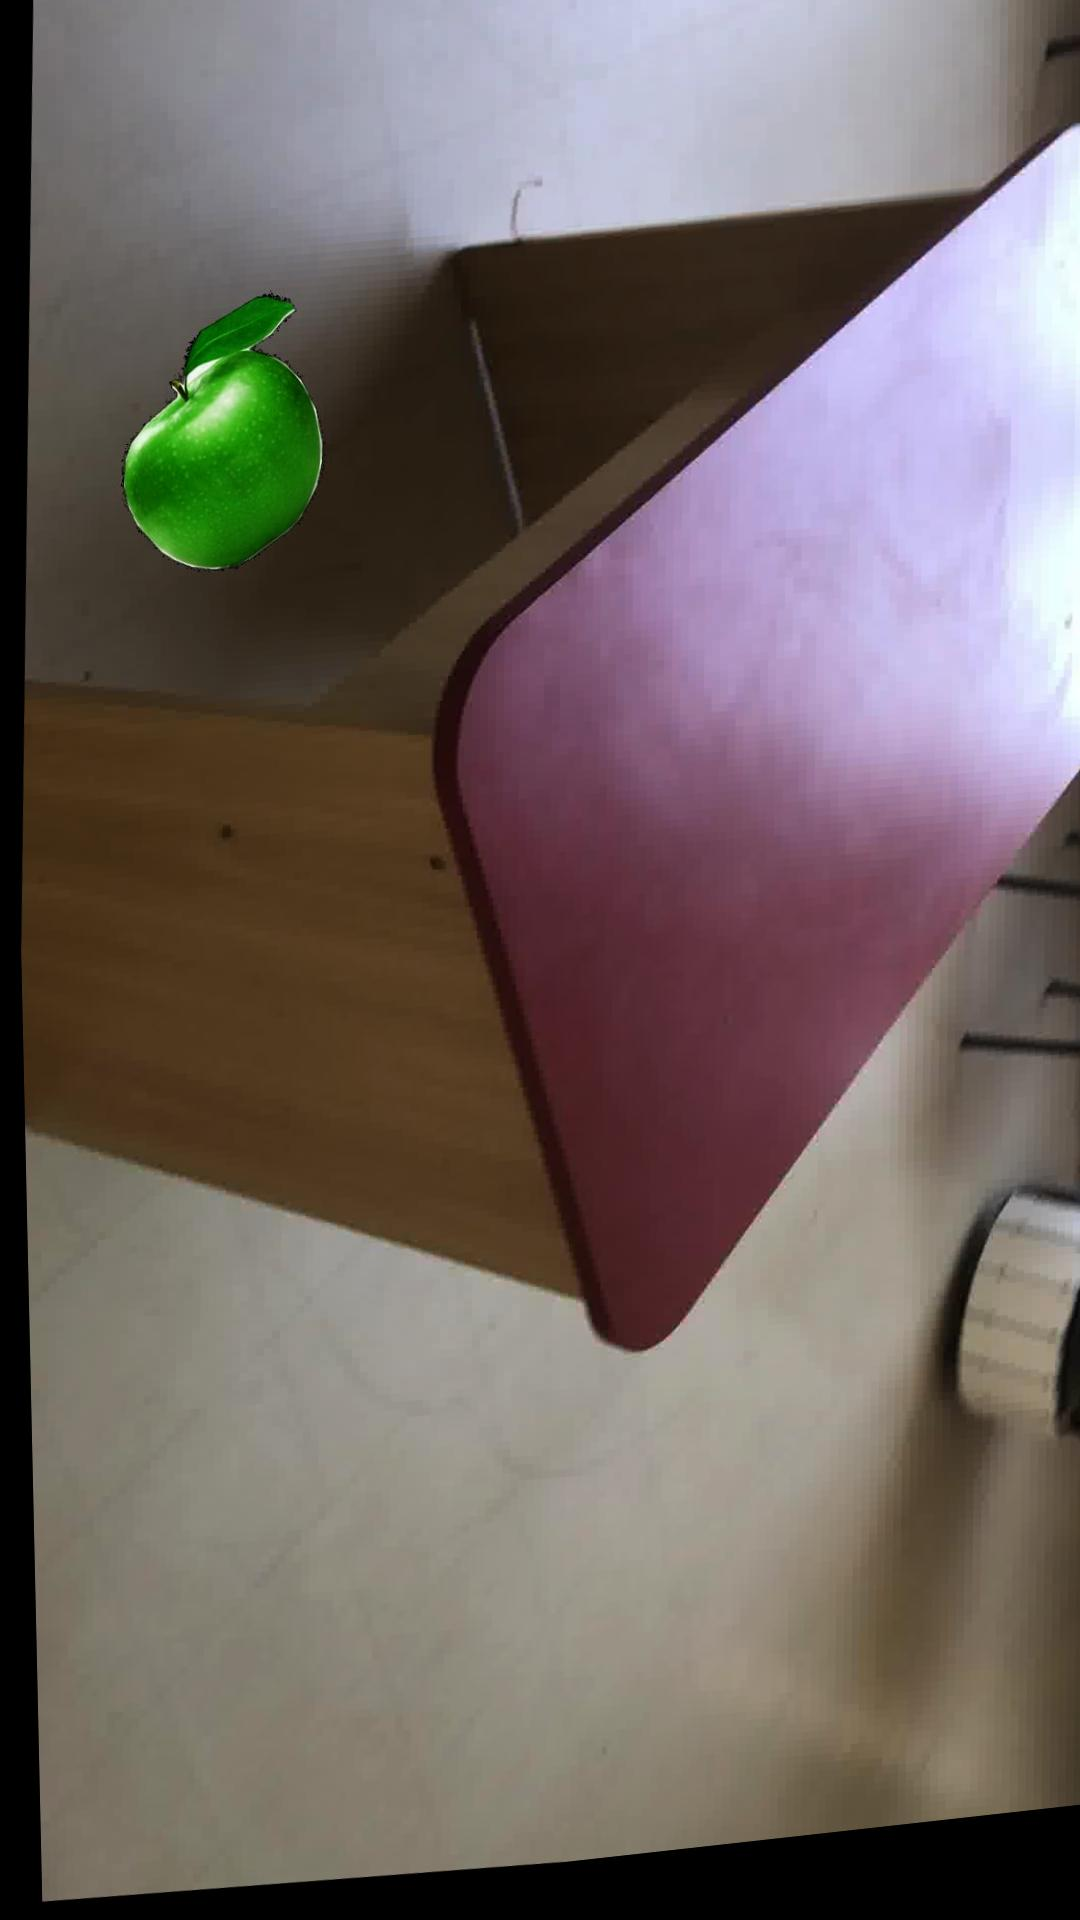green apple: (117, 298, 319, 575)
